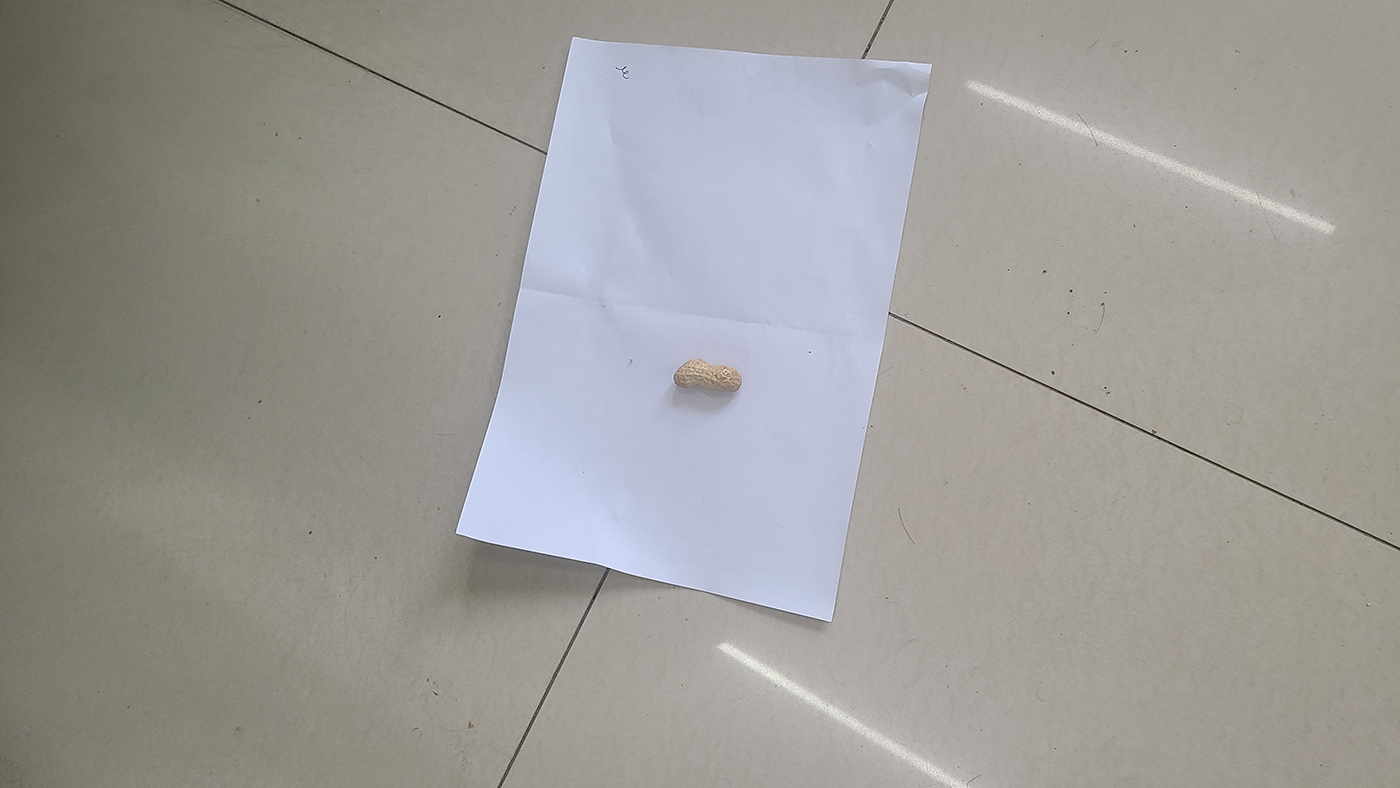h: (673, 358, 742, 392)
